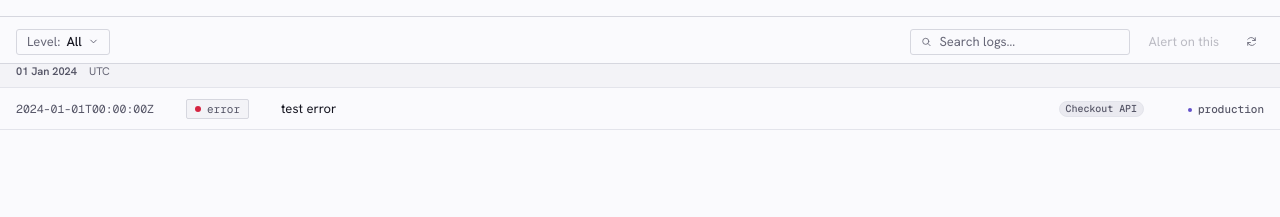
Test: LogsView › log table › toggles expanded row details on click
The image size is (1280, 217).
Click the row that starts with "2024-01-01T00:00:00Z".
click(640, 108)  # box top-left (0, 88), bottom-right (1279, 130)
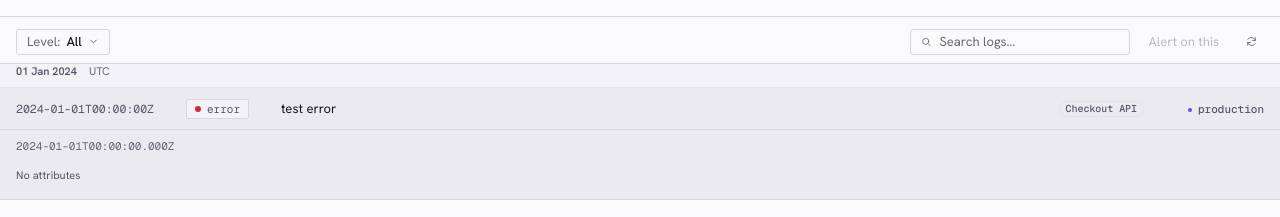
Check: the element with class "log-expanded" is shown, box top-left (0, 130), bottom-right (1279, 199)
